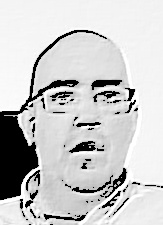nose_M_C: (71, 97, 103, 136)
